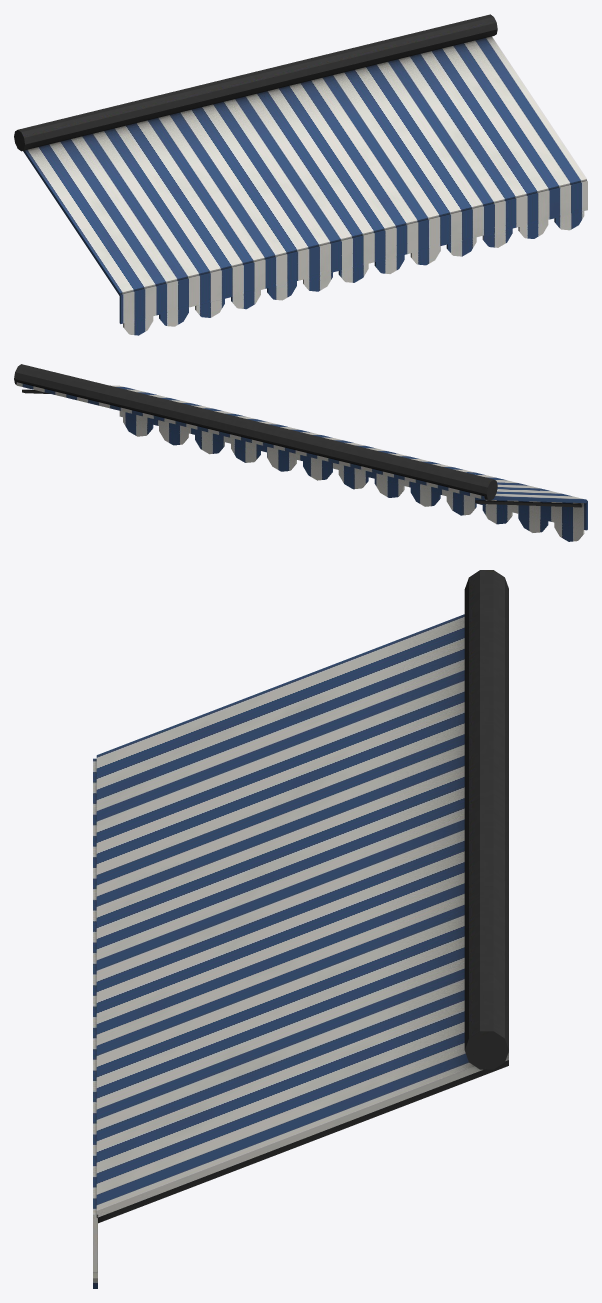
File: awning_34_blue.glb
3 renders of one model, top to bottom at view 1: azimuth 30°, elevation 25°; view 2: azimuth 150°, elevation 25°; view 3: azimuth 270°, elevation 25°, orthographic. The views are drawn at different scales.
Parts seen in each view (by area): view 1: awning_34_blue; view 2: awning_34_blue; view 3: awning_34_blue.
Part boxes in pixels (x1,y1,x2,y2): awning_34_blue: (14,14,587,335); awning_34_blue: (14,364,587,541); awning_34_blue: (93,570,508,1288).
Bounding box in the file's own units: 3.44 × 0.9566 × 1.31.
1 material, 1 textured.
